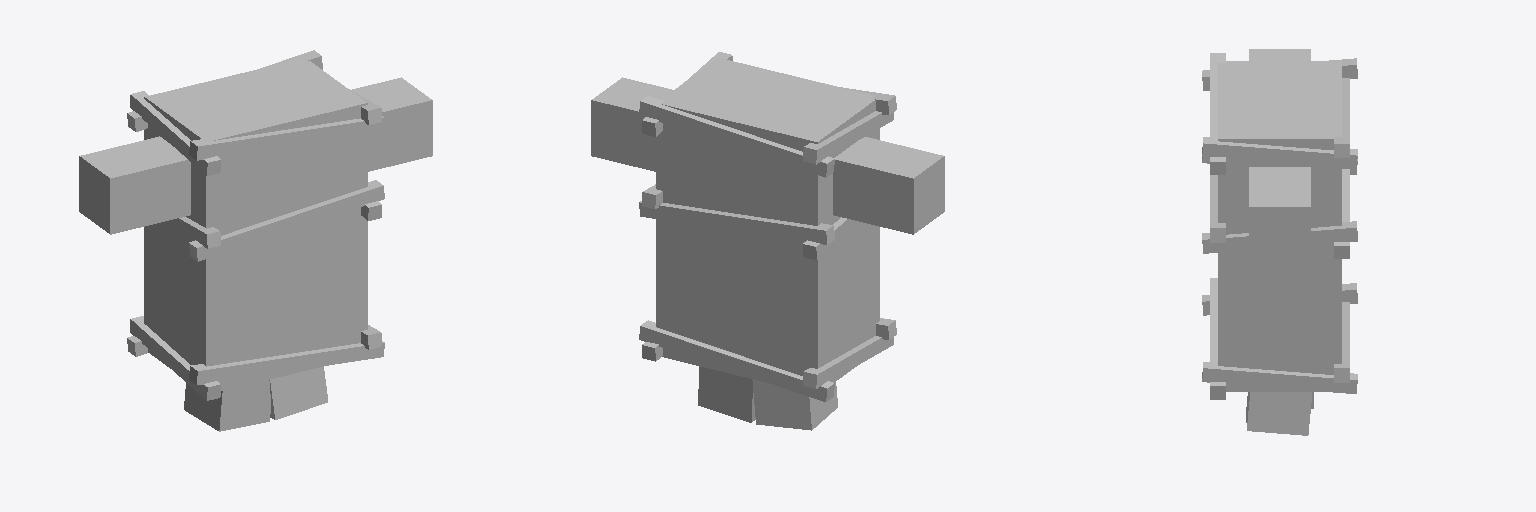
The model's file is torso_basic.obj.
The picture shows the model from 3 angles: view 1: azimuth 30°, elevation 25°; view 2: azimuth 150°, elevation 25°; view 3: azimuth 270°, elevation 25°; orthographic projection.
Visible parts, largest first — view 1: TORSOROUGH_BASIC_Cube.017; view 2: TORSOROUGH_BASIC_Cube.017; view 3: TORSOROUGH_BASIC_Cube.017.
Part boxes in pixels (bbox=[...]): TORSOROUGH_BASIC_Cube.017: bbox=[79, 50, 432, 431]; TORSOROUGH_BASIC_Cube.017: bbox=[591, 52, 944, 430]; TORSOROUGH_BASIC_Cube.017: bbox=[1202, 49, 1357, 435].
Bounding box in the file's own units: 0.75 × 0.7013 × 0.314.